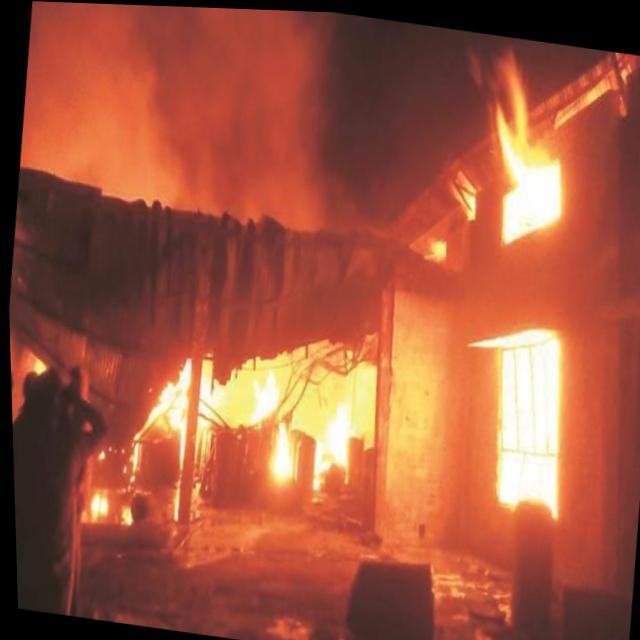fire: (460, 39, 582, 257), (467, 316, 578, 515), (121, 348, 223, 484), (232, 356, 305, 494), (304, 379, 360, 494), (441, 156, 485, 225), (417, 230, 453, 264)
